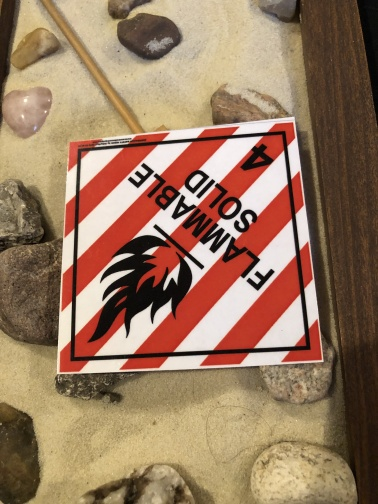FlammableSolid: (68, 140, 315, 360)
